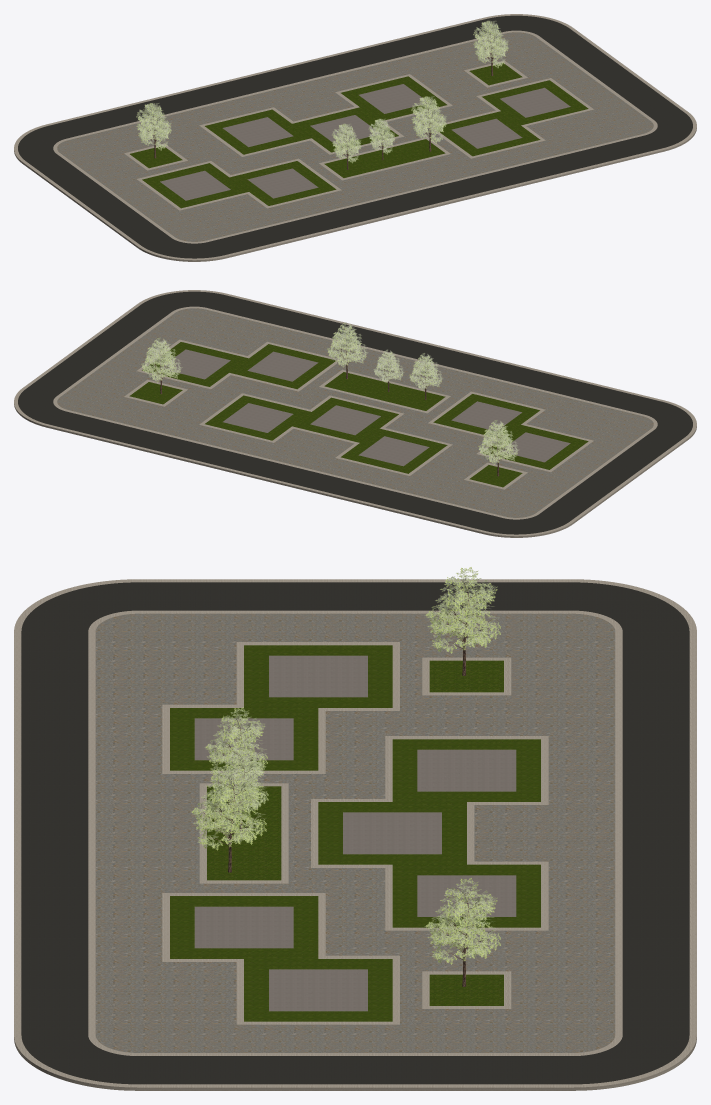
3 renders of one model, top to bottom at view 1: azimuth 30°, elevation 25°; view 2: azimuth 150°, elevation 25°; view 3: azimuth 270°, elevation 25°, orthographic. The views are drawn at different scales.
Parts seen in each view (by area): view 1: 7__Model_-_7_dwg; view 2: 7__Model_-_7_dwg; view 3: 7__Model_-_7_dwg.
Boxes of the visible parts, x1,y1,x2,y2 form: 7__Model_-_7_dwg: [14, 14, 696, 261]; 7__Model_-_7_dwg: [14, 290, 696, 537]; 7__Model_-_7_dwg: [14, 579, 696, 1090].
Size of the model in its own units: 48.6 by 4.74 by 27.6.
Materials: 7 (7 with a texture image).
